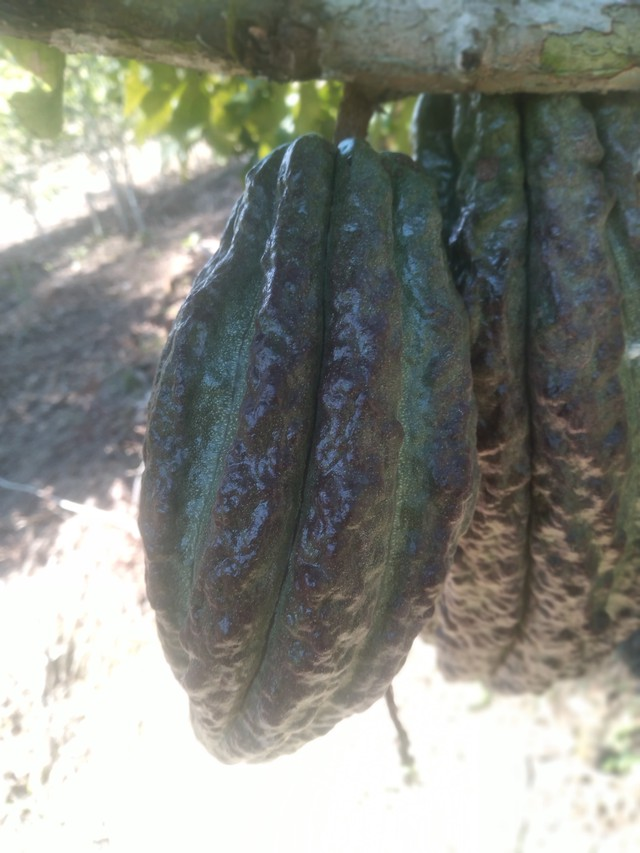Health: (112, 121, 489, 778)
